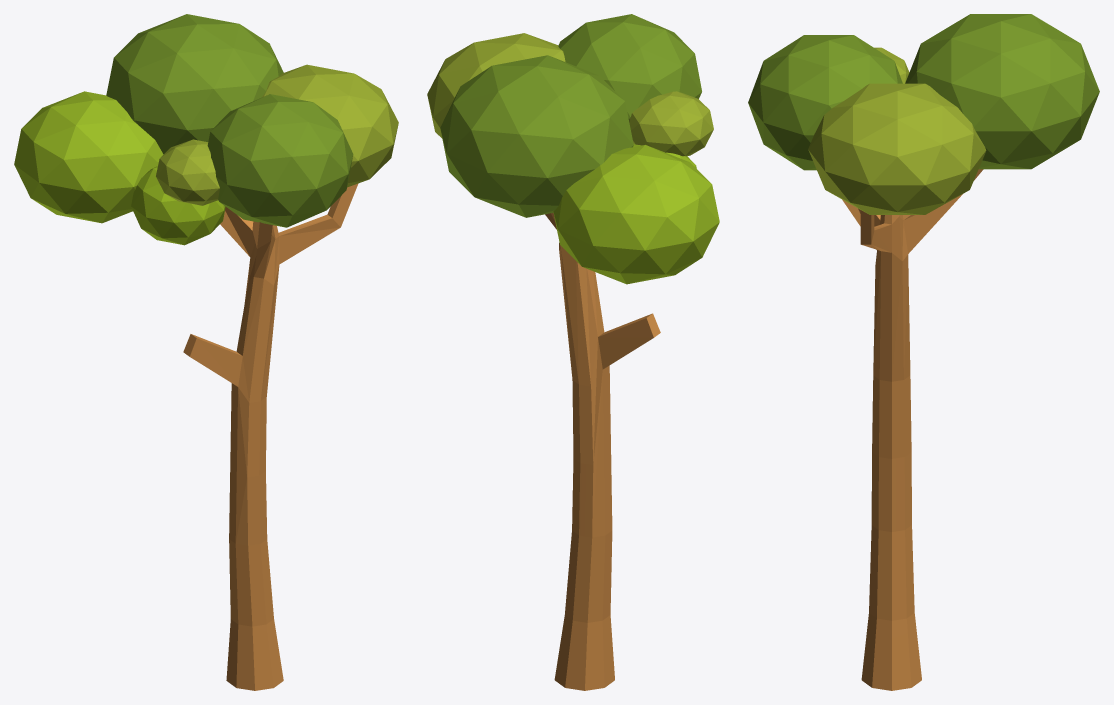
The model's file is tree_house.FBX.
3 views of the same model, side by side, from view 1: azimuth 30°, elevation 25°; view 2: azimuth 150°, elevation 25°; view 3: azimuth 270°, elevation 25° (orthographic). The views are drawn at different scales.
Visible parts, largest first — view 1: Object017; view 2: Object017; view 3: Object017.
Boxes of the visible parts, x1,y1,x2,y2 form: Object017: (14,14,398,690); Object017: (427,14,719,690); Object017: (748,14,1099,690).
Bounding box in the file's own units: 5.36 × 10.37 × 5.06.
Materials: 1 (1 with a texture image).
